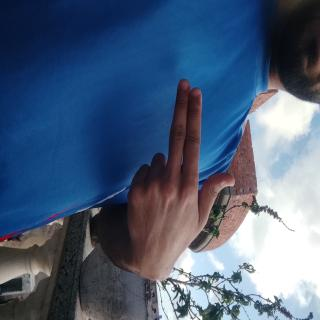GHAYN: (59, 100, 210, 278)
